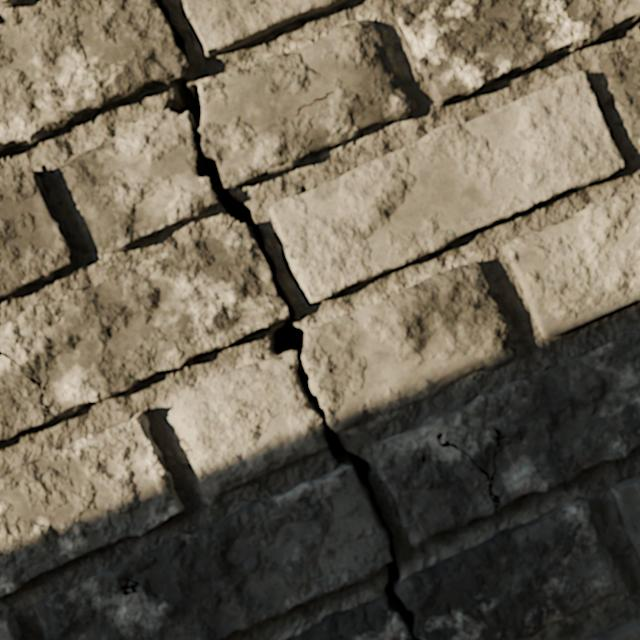broken_brick: (302, 262, 516, 430), (199, 20, 411, 187), (396, 498, 628, 639), (169, 350, 327, 497), (60, 109, 217, 254), (287, 594, 411, 639), (0, 0, 21, 7)
crack: (0, 0, 421, 639), (269, 71, 625, 303), (372, 329, 639, 547), (0, 411, 183, 596), (396, 0, 639, 106), (502, 186, 639, 338), (0, 168, 77, 298), (183, 0, 347, 57), (599, 42, 639, 148), (611, 475, 639, 558), (294, 90, 334, 116), (589, 619, 639, 639), (0, 617, 24, 639), (365, 118, 375, 123)
